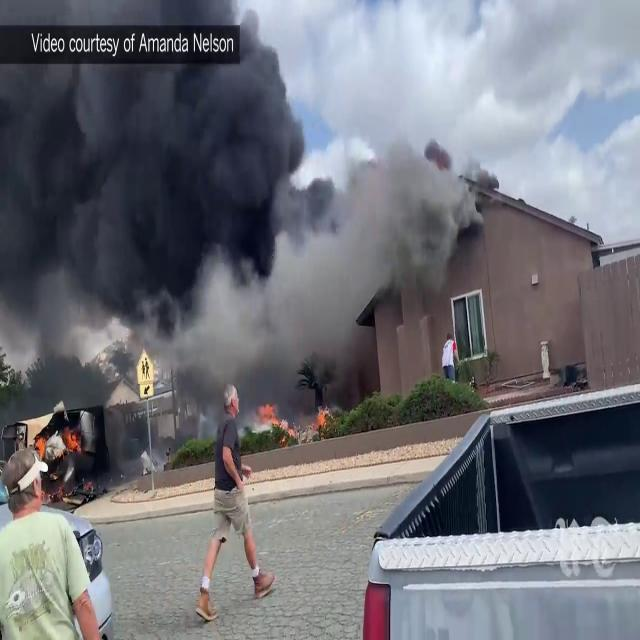Smoke: (0, 0, 329, 396), (278, 96, 492, 340)
